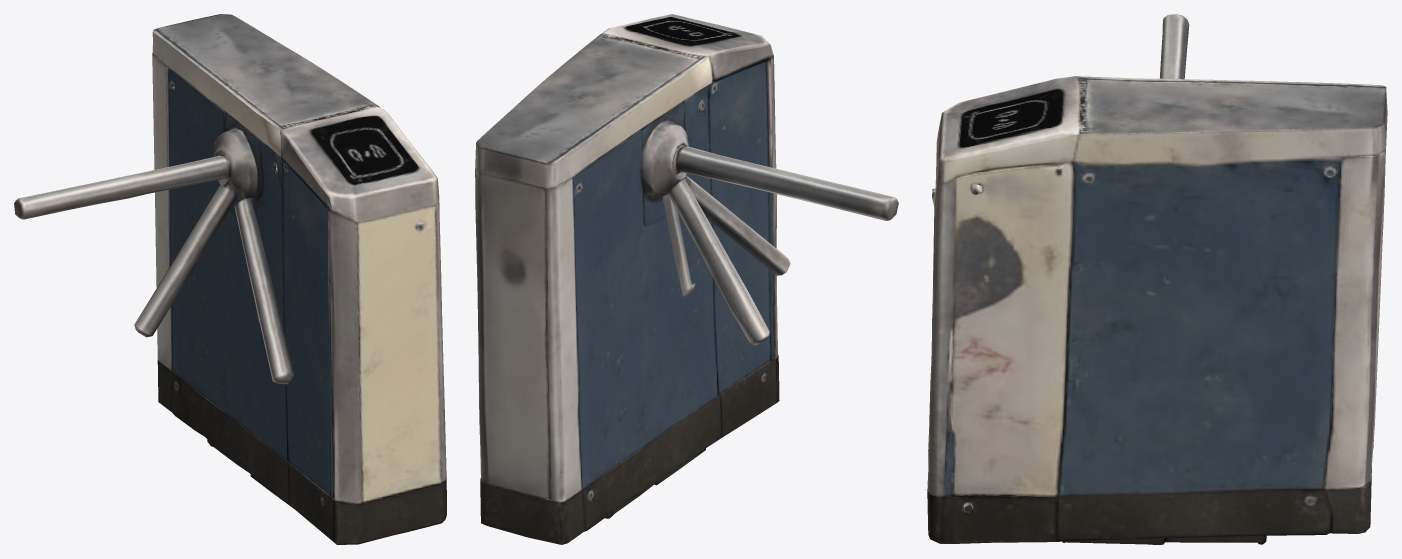
Rendered from turnstile.glb.
3 renders of one model, left to right at view 1: azimuth 30°, elevation 25°; view 2: azimuth 150°, elevation 25°; view 3: azimuth 270°, elevation 25°, orthographic. The views are drawn at different scales.
Parts seen in each view (by area): view 1: turnstile; view 2: turnstile; view 3: turnstile.
Part boxes in pixels (<box>): turnstile: <box>14,14,446,544</box>; turnstile: <box>475,14,898,544</box>; turnstile: <box>927,14,1387,544</box>.
Size of the model in its own units: 0.9159 by 1.02 by 1.
1 material, 1 textured.
